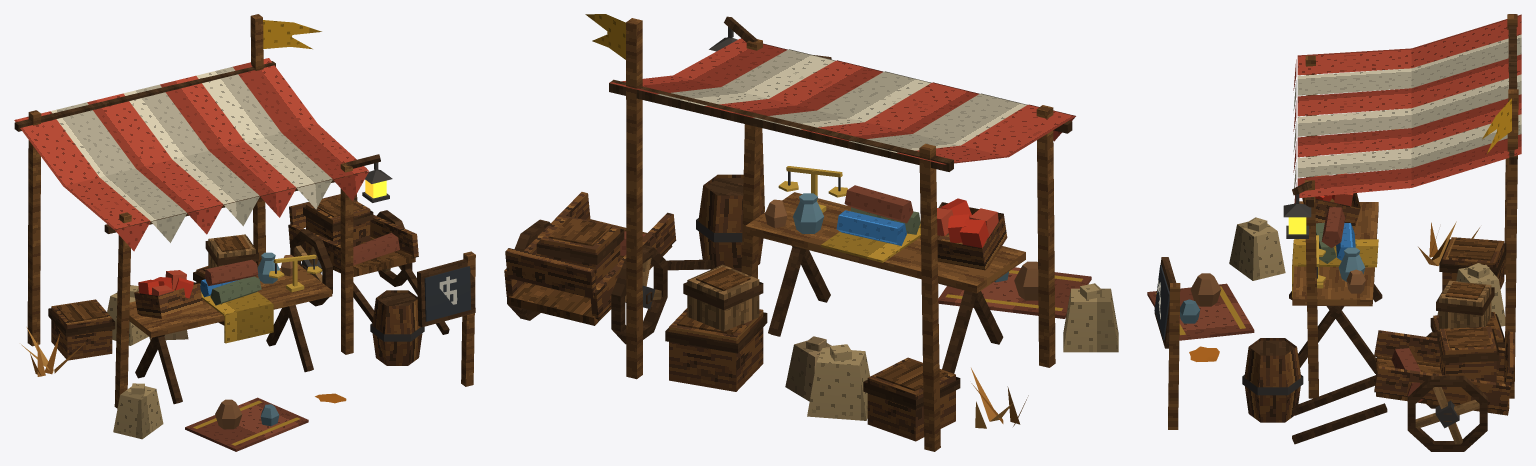
Rendered from trader_camp.glb.
3 renders of one model, left to right at view 1: azimuth 30°, elevation 25°; view 2: azimuth 150°, elevation 25°; view 3: azimuth 270°, elevation 25°, orthographic. The views are drawn at different scales.
Parts seen in each view (by area): view 1: trader_camp, sway_pennant; view 2: trader_camp, sway_pennant; view 3: trader_camp, sway_pennant.
Boxes of the visible parts, bbox=[...] form: trader_camp: bbox=[14, 14, 475, 451]; sway_pennant: bbox=[263, 20, 321, 49]; trader_camp: bbox=[504, 16, 1118, 451]; sway_pennant: bbox=[585, 14, 625, 59]; trader_camp: bbox=[1147, 14, 1521, 451]; sway_pennant: bbox=[1482, 98, 1511, 153].
Size of the model in its own units: 4.74 by 3.28 by 3.64.
Materials: 30 (16 with a texture image).
